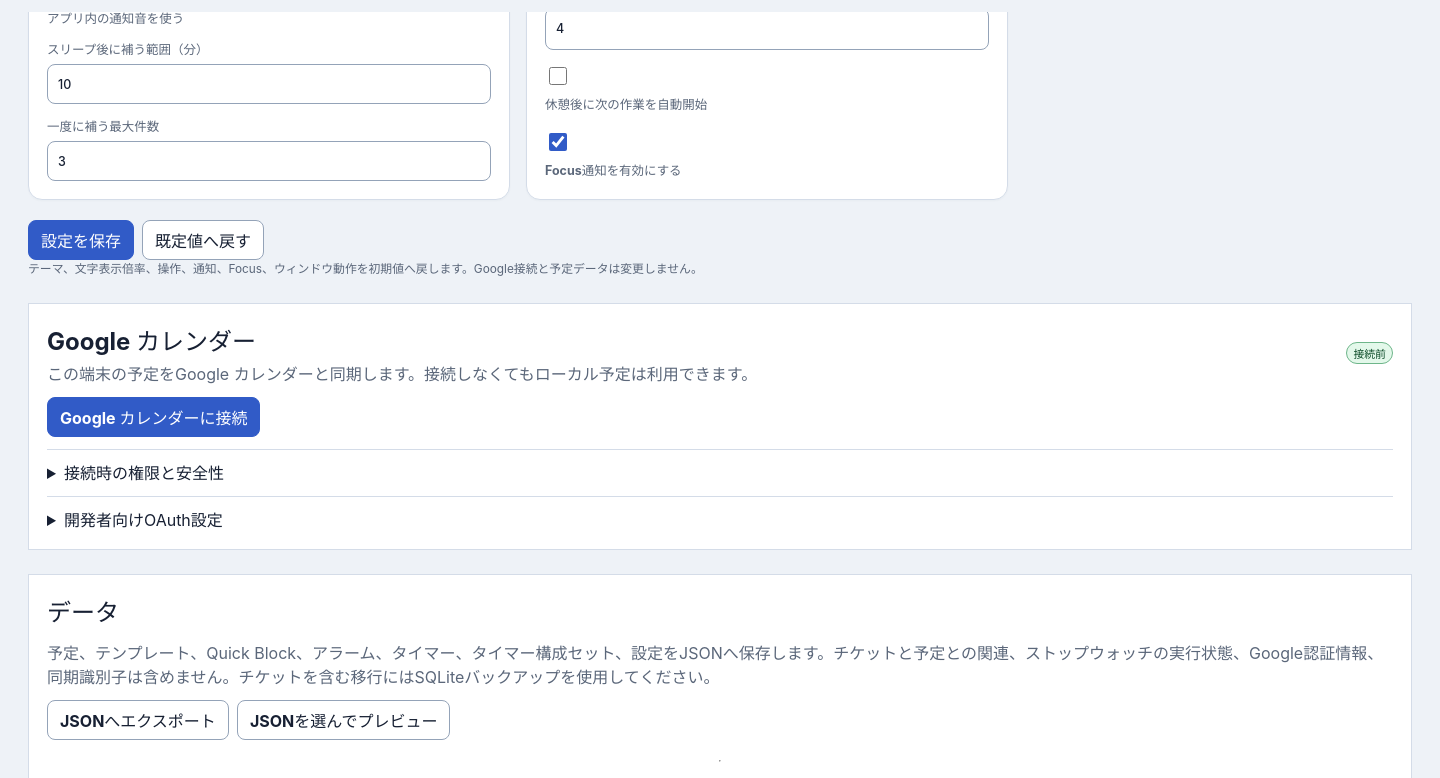
it: Google Calendar settings › starts the app-managed OAuth flow without requiring a JSON import
(page scrolled)
Click the button "Google カレンダーに接続" at (154, 417), box [47,397,260,437]
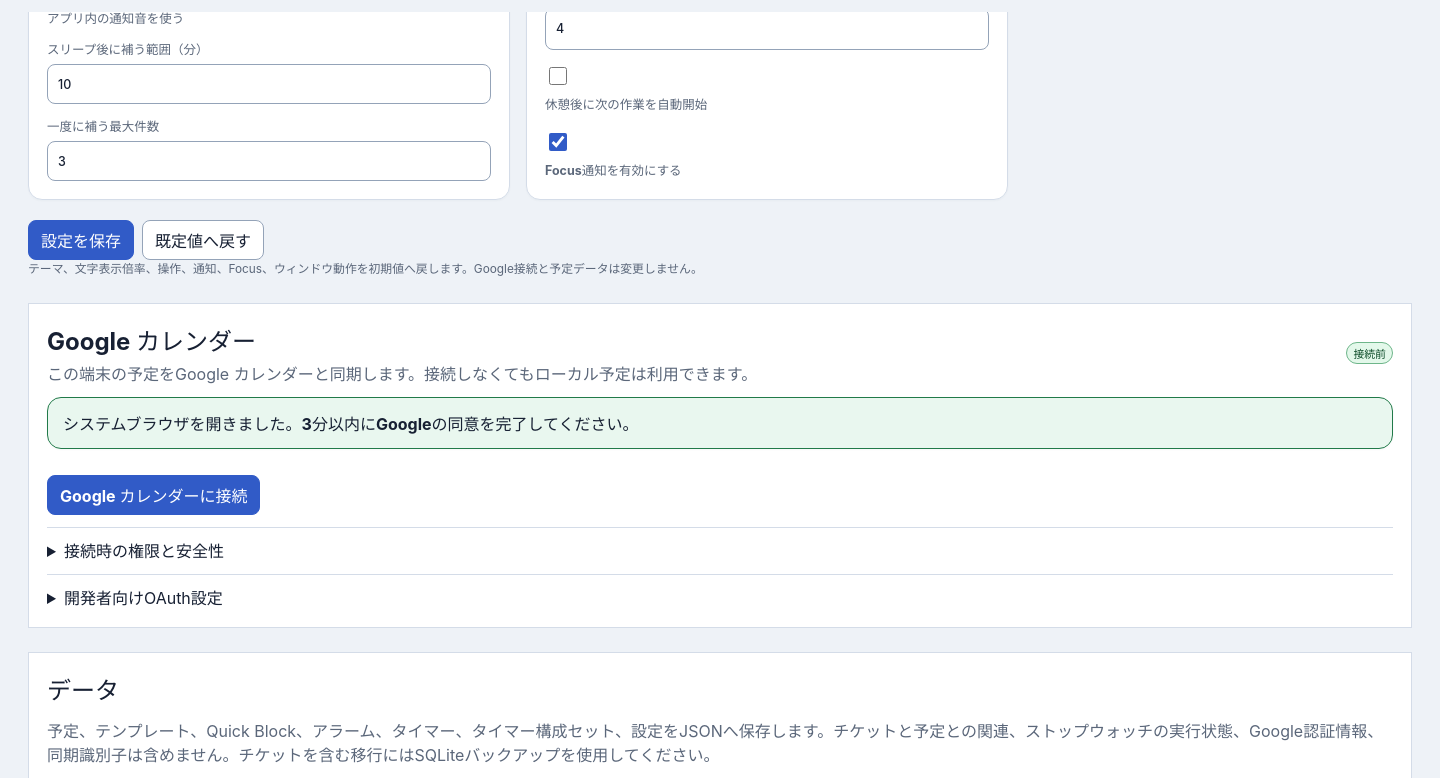
expect the text "システムブラウザを開きました。3分以内にGoogleの同意を完了してください。" is shown: met, box [63,414,638,434]
